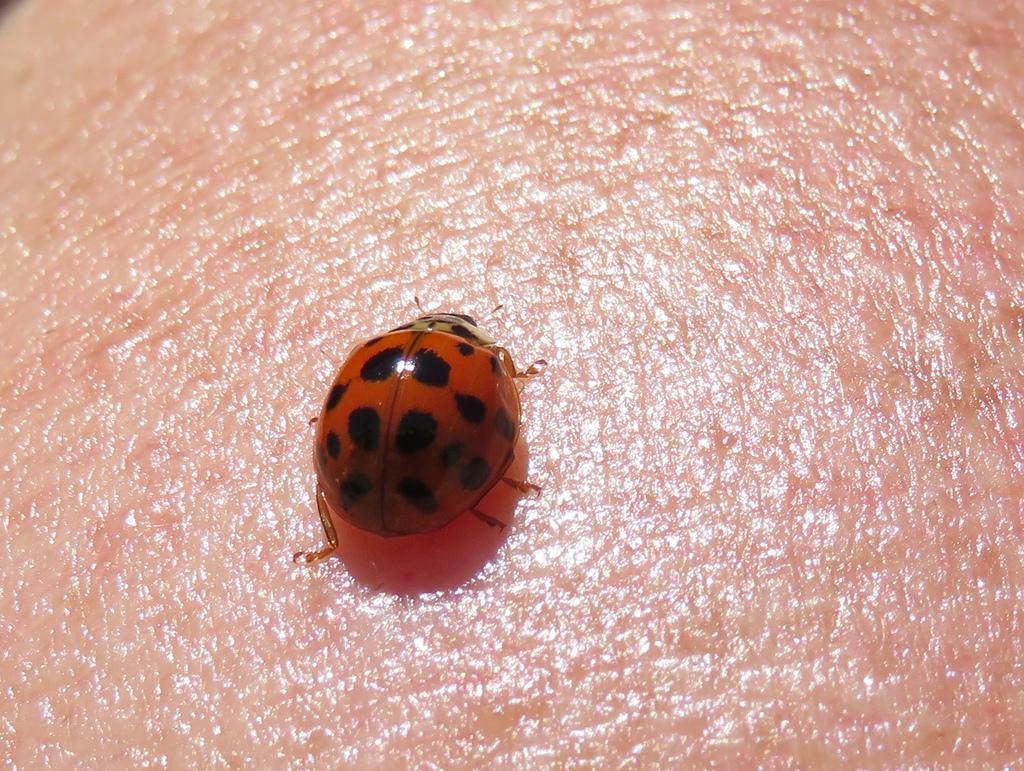ladybug: (291, 293, 555, 567)
